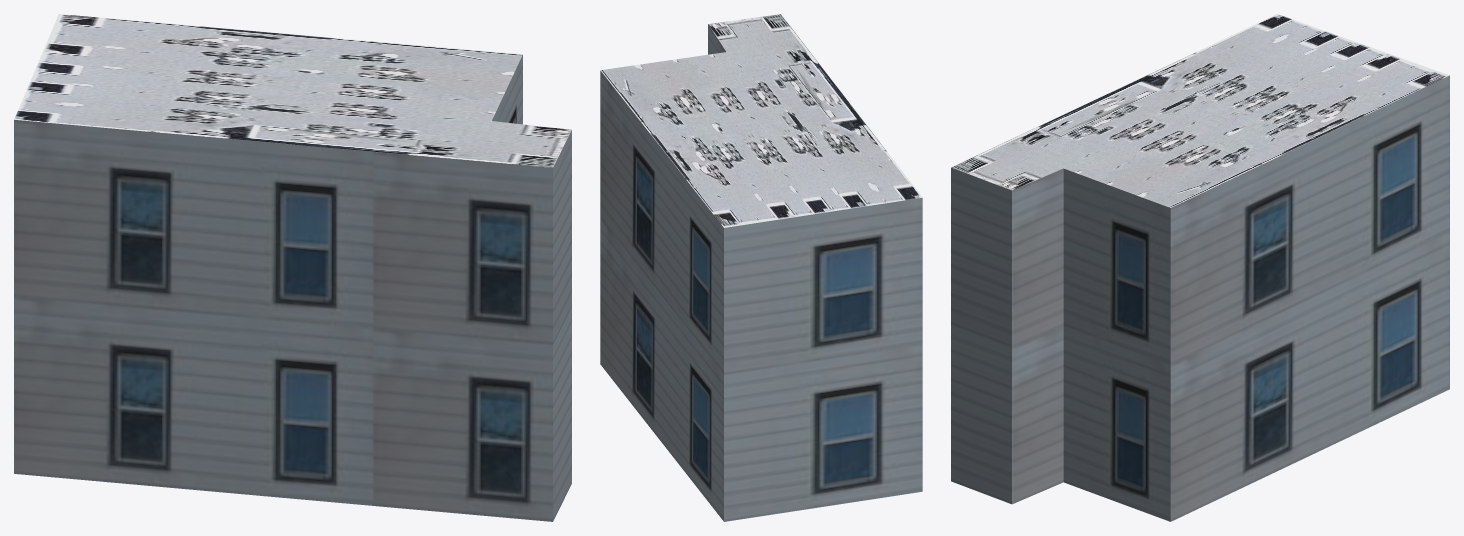
The model's file is ResTex__448.fbx.
The picture shows the model from 3 angles, left to right: view 1: azimuth 30°, elevation 25°; view 2: azimuth 150°, elevation 25°; view 3: azimuth 270°, elevation 25°; orthographic projection. The views are drawn at different scales.
Visible parts, largest first — view 1: CityEngineMaterial_18_m, CityEngineMaterial_8_m; view 2: CityEngineMaterial_18_m, CityEngineMaterial_8_m; view 3: CityEngineMaterial_18_m, CityEngineMaterial_8_m.
Part boxes in pixels (bbox=[...]): CityEngineMaterial_18_m: bbox=[14, 55, 571, 521]; CityEngineMaterial_8_m: bbox=[14, 14, 571, 167]; CityEngineMaterial_18_m: bbox=[600, 24, 922, 521]; CityEngineMaterial_8_m: bbox=[600, 14, 922, 227]; CityEngineMaterial_18_m: bbox=[951, 75, 1449, 521]; CityEngineMaterial_8_m: bbox=[951, 14, 1449, 207].
Bounding box in the file's own units: 7.96 × 6 × 8.64.
Materials: 2 (2 with a texture image).
